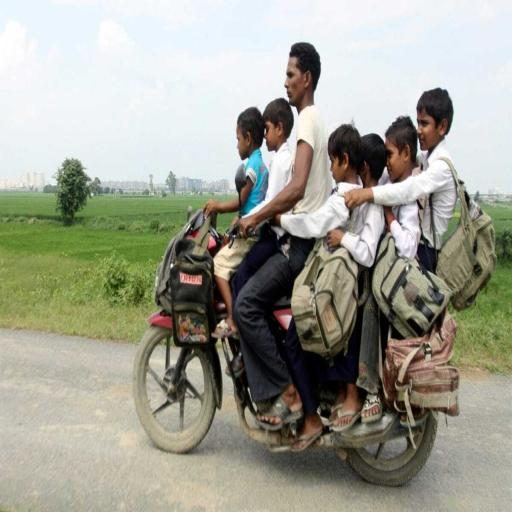overloading: (130, 199, 448, 487)
